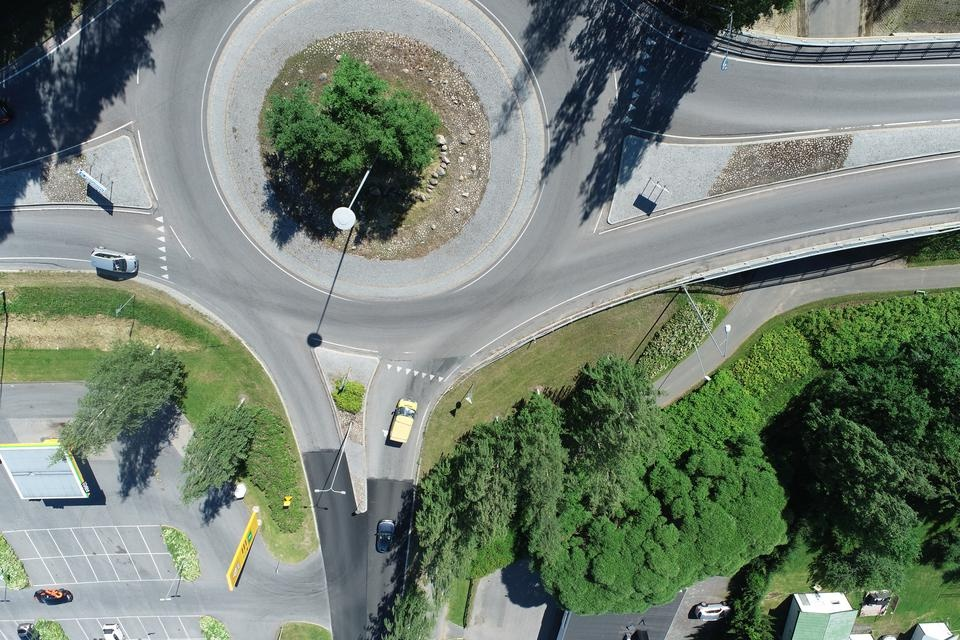roundabout: (89, 0, 645, 381)
